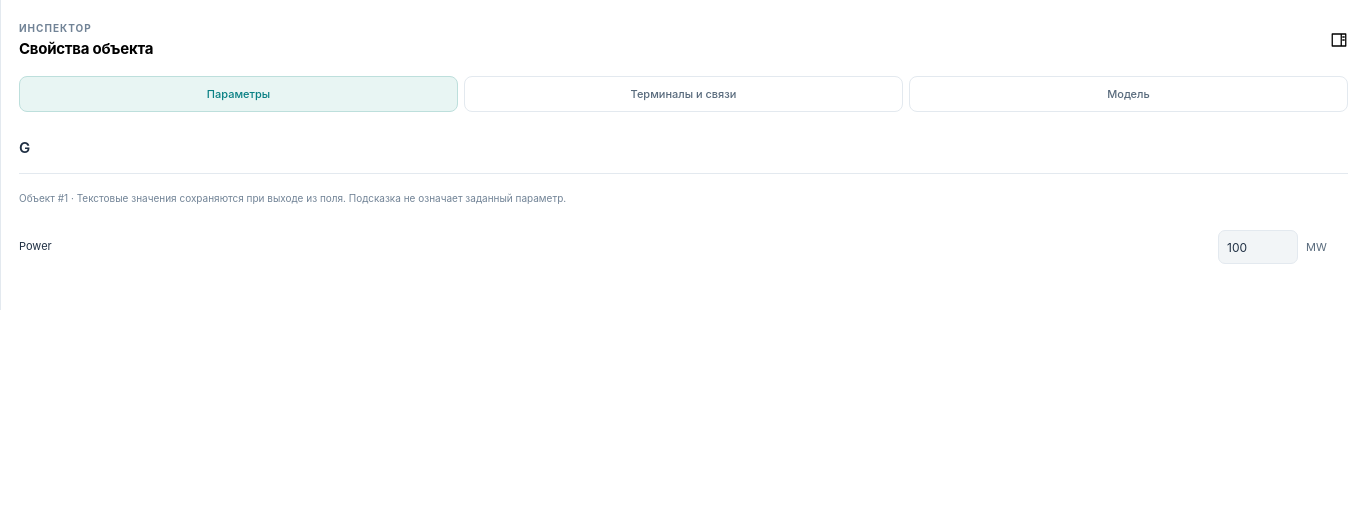
Test: equipment navigation keeps terminal view while replacing object identity and terminal count
Click the button "Терминалы и связи": (684, 94) 464,76 -> 903,112
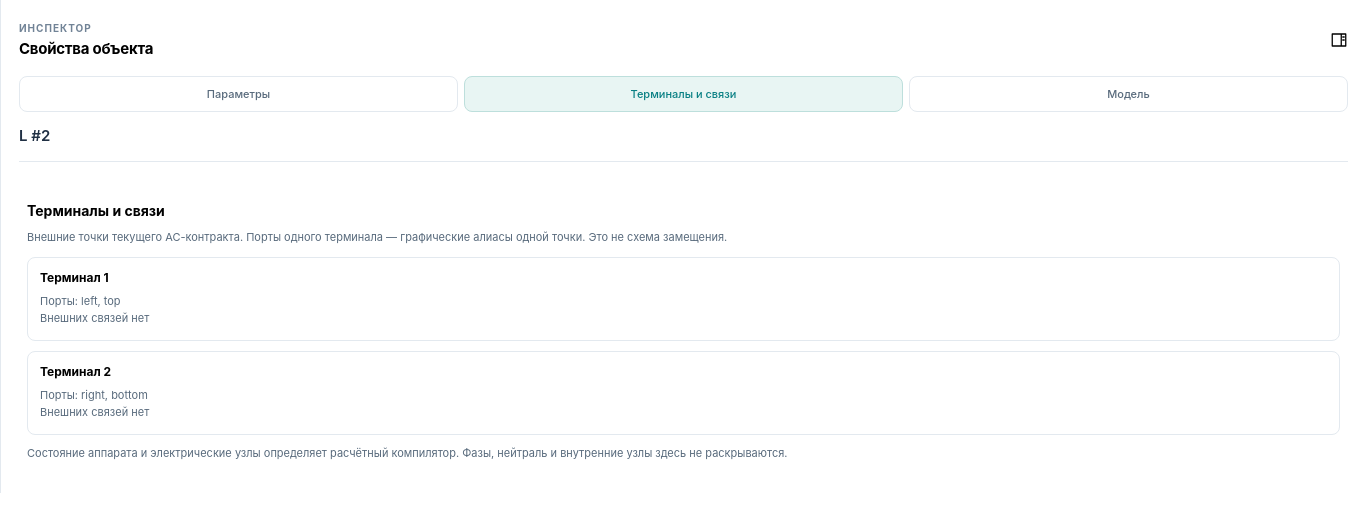
Expected: the number of elements with class "terminal-card" is 2, 27,257 -> 1340,341; 27,351 -> 1340,435
Expected: the heading "L #2" is shown, 19,126 -> 1348,162
